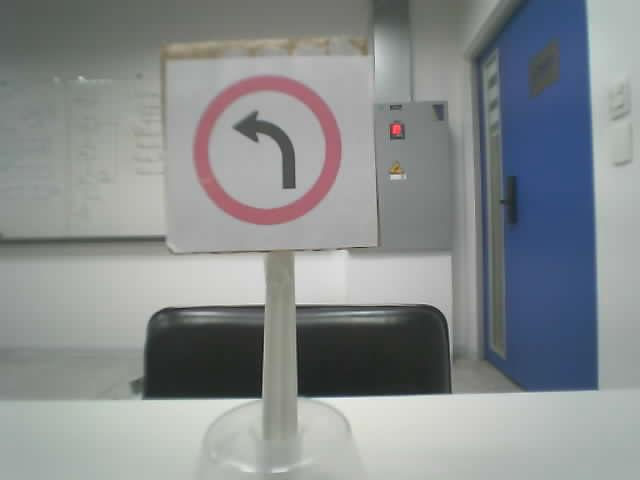R-25a_esquerda: (192, 74, 343, 225)
